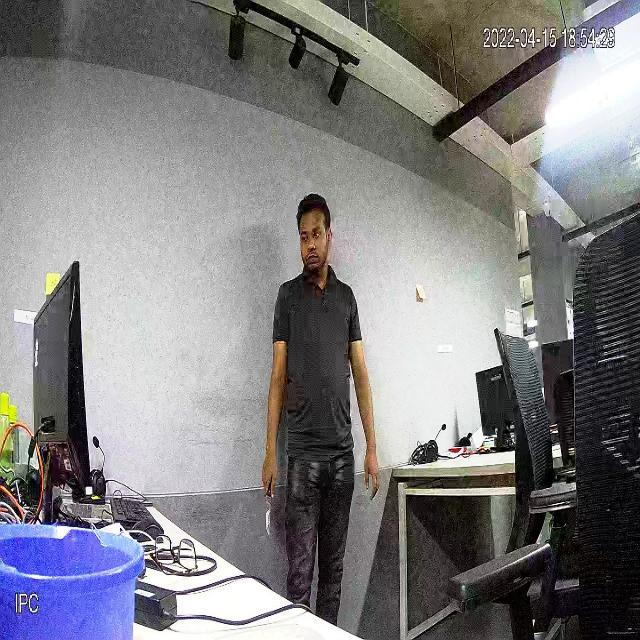Knife: (258, 469, 286, 543)
